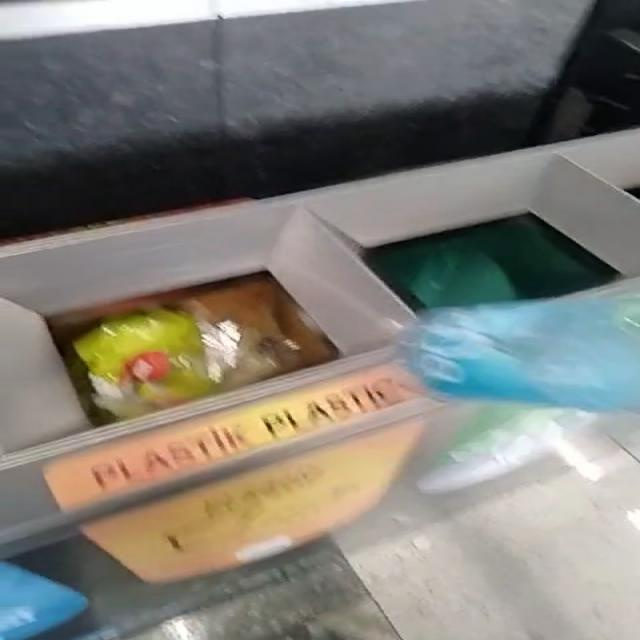Plastic: (403, 293, 640, 411)
